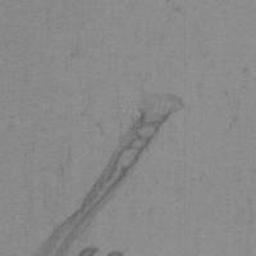Water spot: (28, 92, 184, 256), (78, 247, 99, 256), (105, 248, 123, 256)
